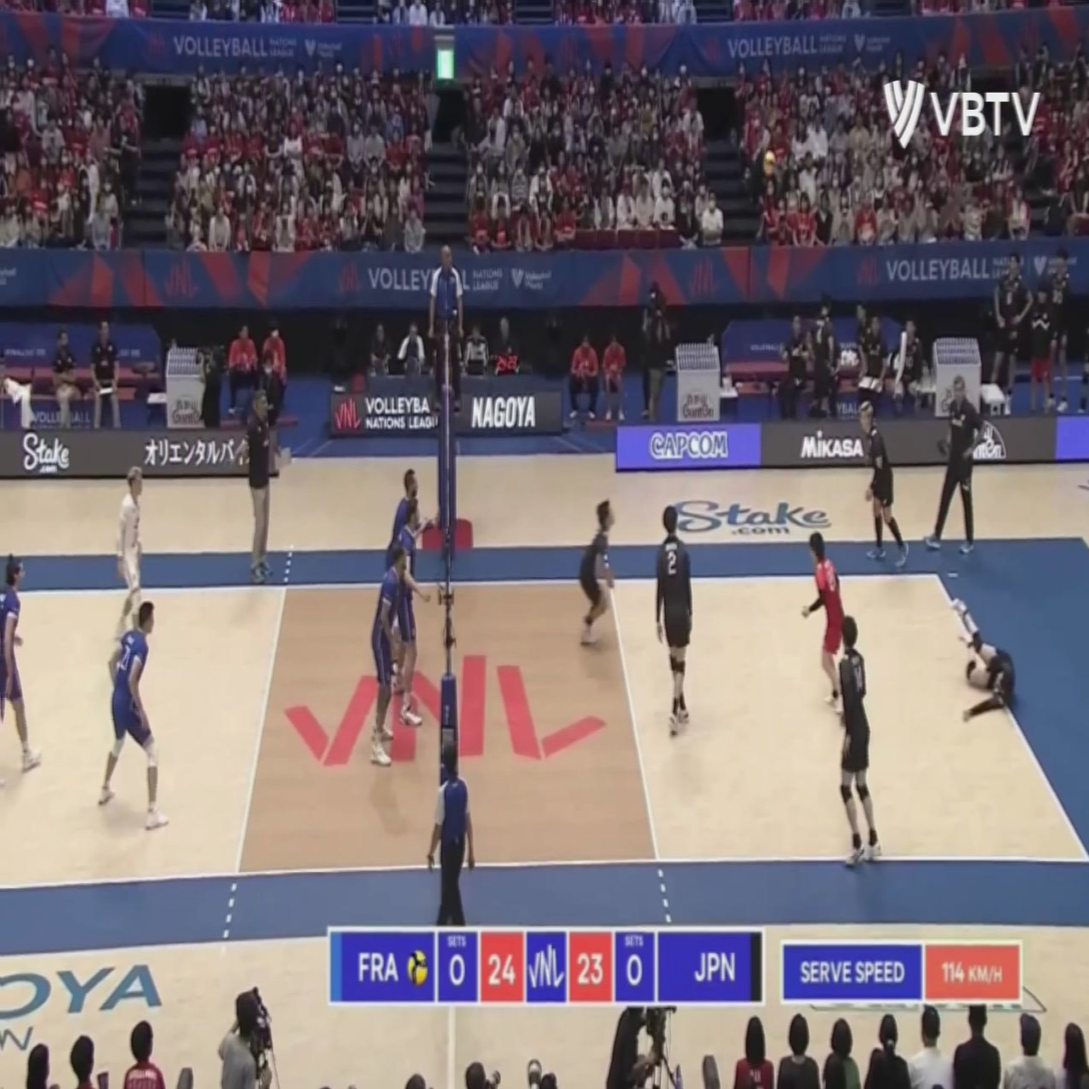ball: (762, 150, 774, 173)
